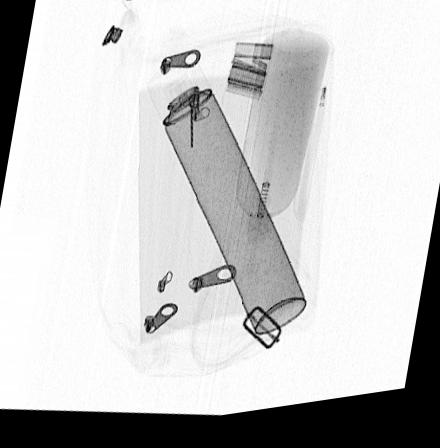Sprayer: (147, 54, 307, 341)
